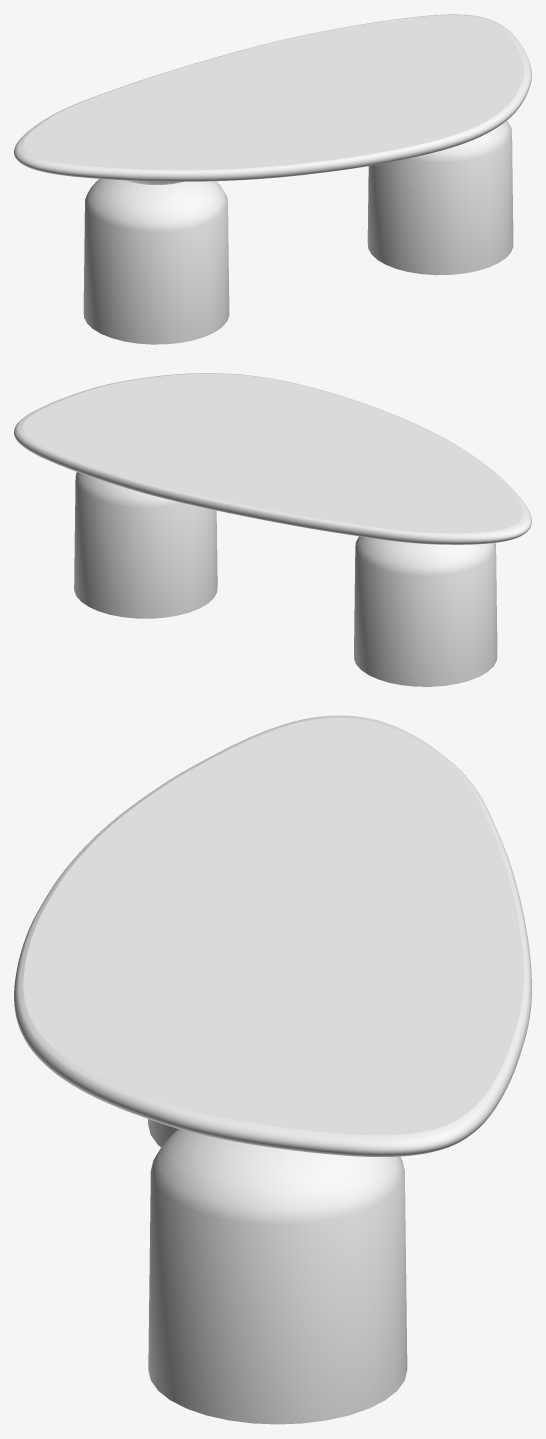
The model's file is purewhite_pebbletop_round_tornado.glb.
The picture shows the model from 3 angles, top to bottom: view 1: azimuth 30°, elevation 25°; view 2: azimuth 150°, elevation 25°; view 3: azimuth 270°, elevation 25°; orthographic projection. The views are drawn at different scales.
Visible parts, largest first — view 1: round_pebbletop, tornado; view 2: round_pebbletop, tornado; view 3: round_pebbletop, tornado.
Part boxes in pixels (left/top/right/bottom): round_pebbletop: left=14, top=14, right=531, bottom=181; tornado: left=83, top=120, right=513, bottom=344; round_pebbletop: left=14, top=373, right=531, bottom=544; tornado: left=74, top=472, right=497, bottom=686; round_pebbletop: left=14, top=715, right=531, bottom=1156; tornado: left=148, top=1119, right=407, bottom=1424.
Size of the model in its own units: 7.5 by 2.51 by 3.8.
Materials: 1 (1 with a texture image).
